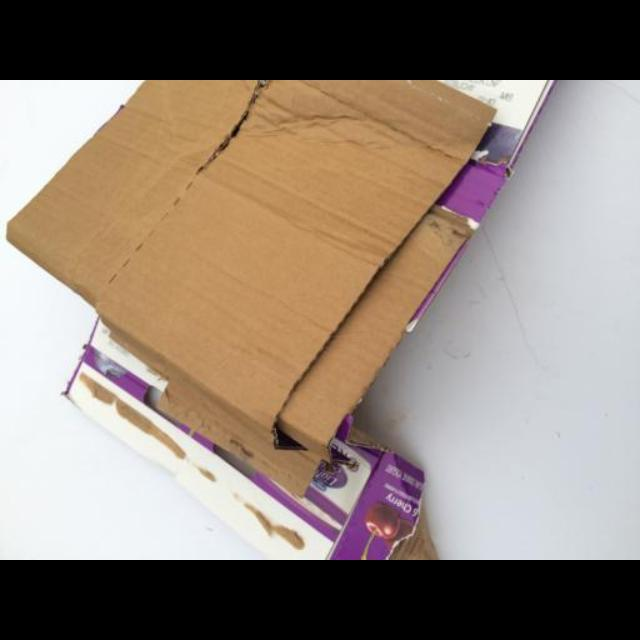papelão: (6, 80, 554, 560)
